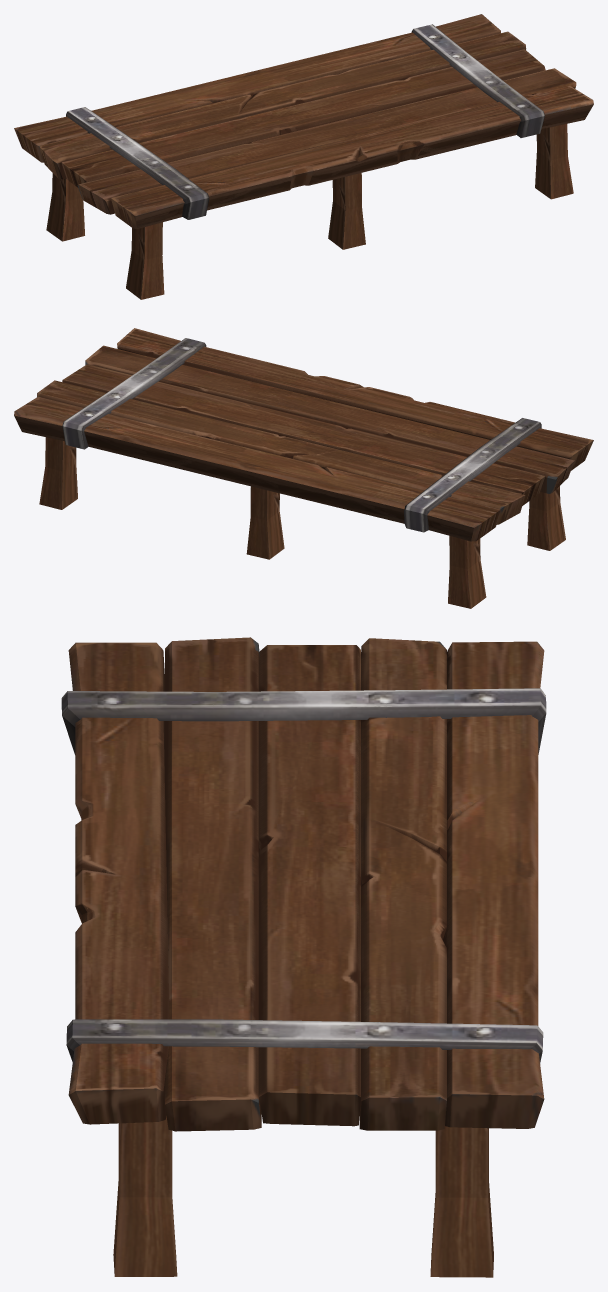
Rendered from Table_01.glb.
The picture shows the model from 3 angles, top to bottom: view 1: azimuth 30°, elevation 25°; view 2: azimuth 150°, elevation 25°; view 3: azimuth 270°, elevation 25°; orthographic projection. The views are drawn at different scales.
Visible parts, largest first — view 1: Table_01; view 2: Table_01; view 3: Table_01.
Part boxes in pixels (x1,y1,x2,y2): Table_01: (14, 14, 593, 299); Table_01: (14, 328, 593, 608); Table_01: (61, 637, 546, 1277).
Size of the model in its own units: 9.18 by 1.86 by 4.06.
Materials: 1 (1 with a texture image).
